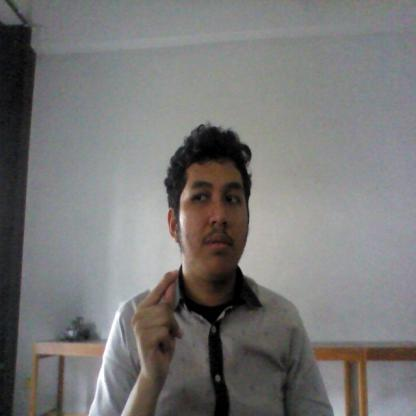R: (127, 264, 202, 392)
